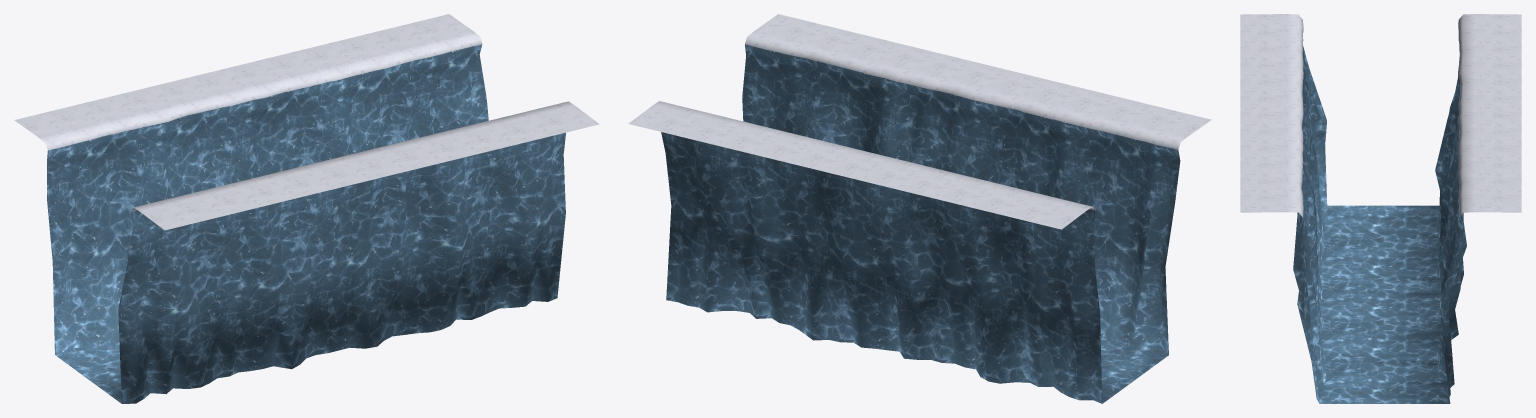
File: crevasse.glb
3 views of the same model, side by side, from view 1: azimuth 30°, elevation 25°; view 2: azimuth 150°, elevation 25°; view 3: azimuth 270°, elevation 25° (orthographic). The views are drawn at different scales.
Visible parts, largest first — view 1: crevasse; view 2: crevasse; view 3: crevasse.
Boxes of the visible parts, x1,y1,x2,y2 form: crevasse: (14,14,599,403); crevasse: (628,14,1211,403); crevasse: (1240,14,1521,403).
Bounding box in the file's own units: 40 × 18.05 × 24.
Materials: 1 (1 with a texture image).
